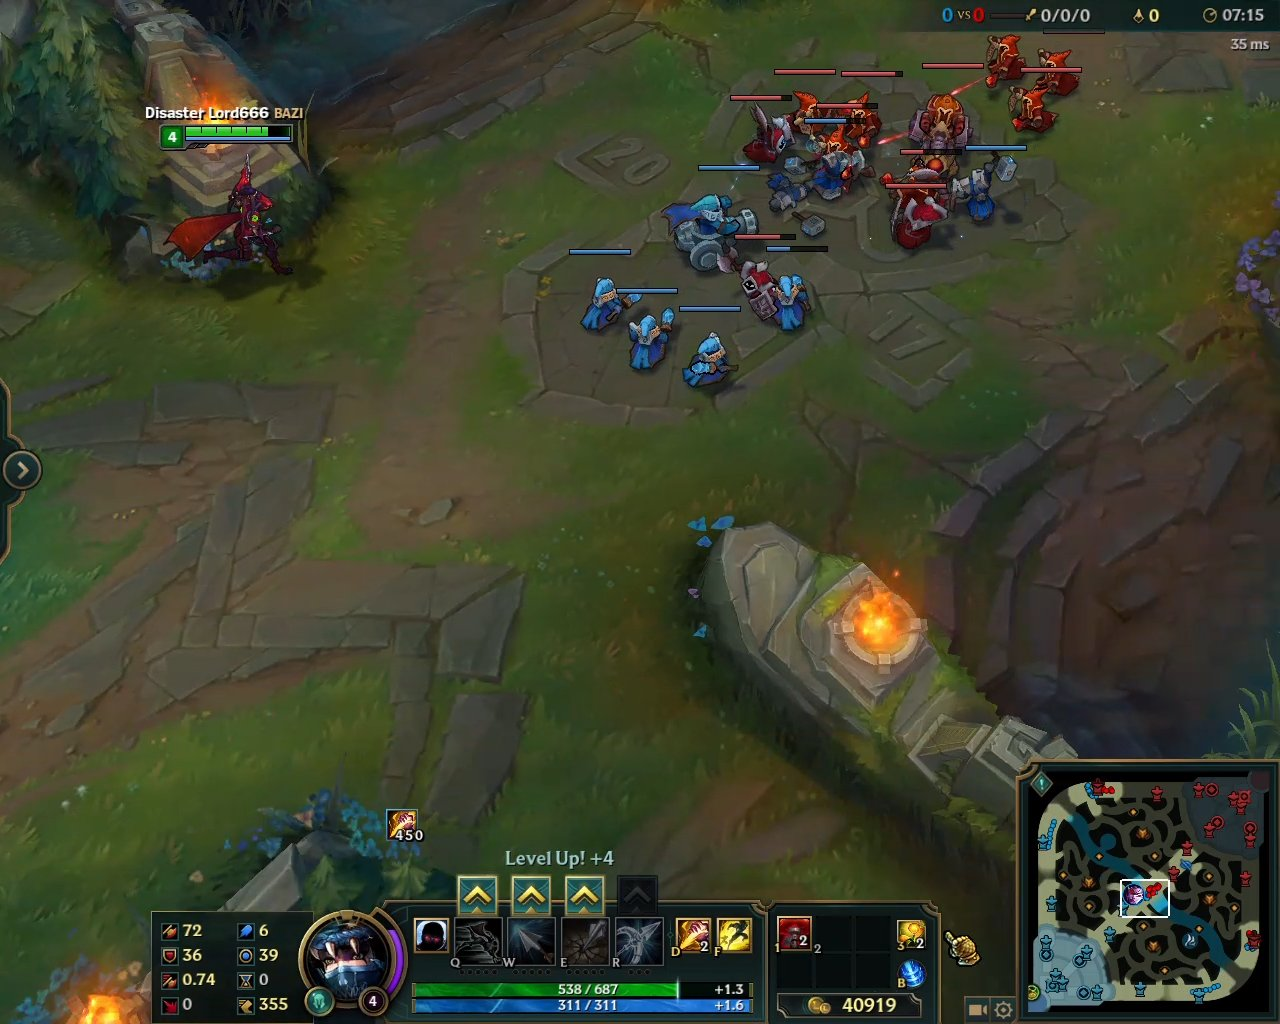EnemyMinion: (893, 61, 984, 181), (718, 235, 786, 324), (879, 181, 953, 253), (835, 69, 903, 146), (1005, 66, 1083, 133), (725, 94, 795, 167), (776, 69, 842, 140)
Vayne: (160, 152, 303, 282)
